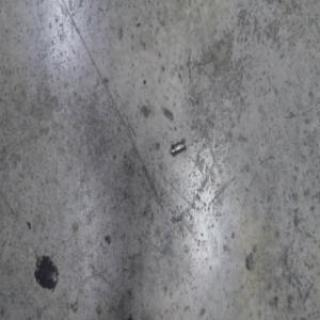Bolttrack_idkeyframe: (169, 136, 185, 156)
